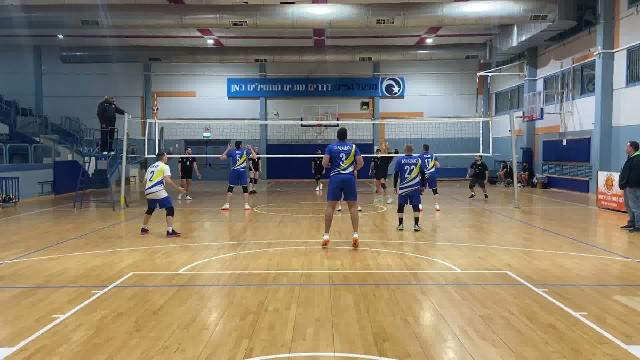ball: (383, 141, 390, 149)
